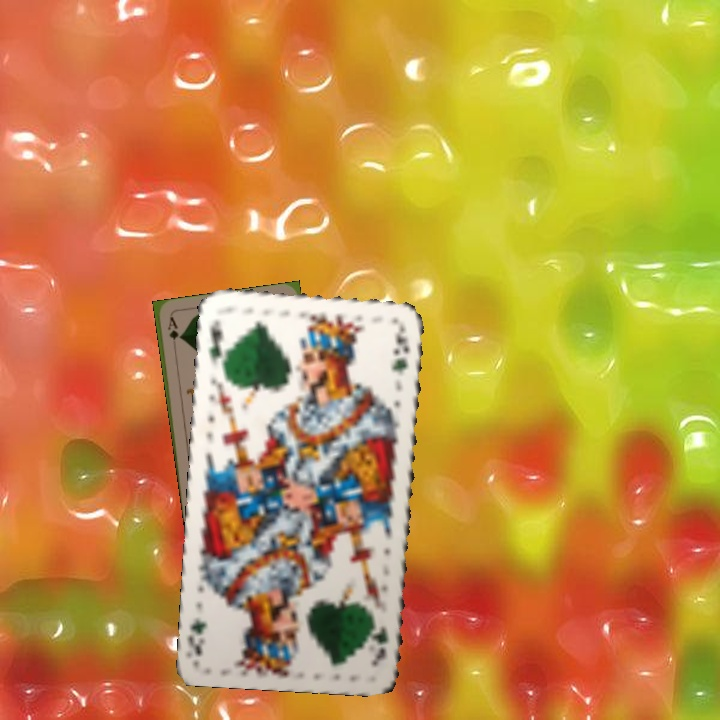GA: (164, 313, 180, 354)
GK: (204, 315, 227, 368), (369, 615, 391, 669)
